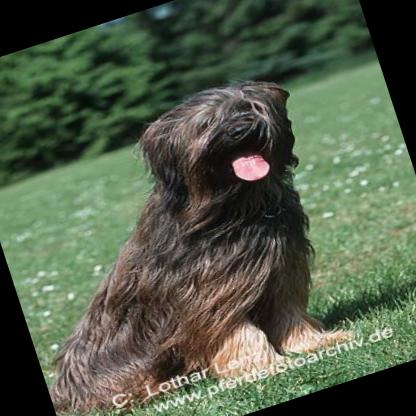briard: (0, 61, 371, 416)
